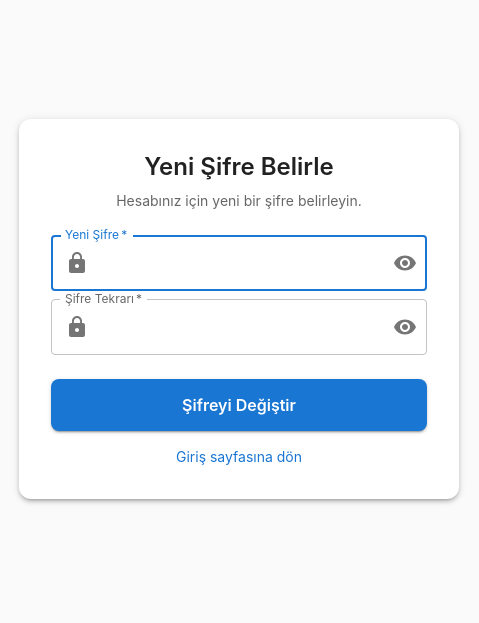
it: Password Recovery Flow (Turkish) › Reset Password Page › should validate password matching
This screenshot has width=479, height=623.
Type "Password123!" into the password field named "newPassword". click: (237, 263)
box: [97, 235, 377, 291]
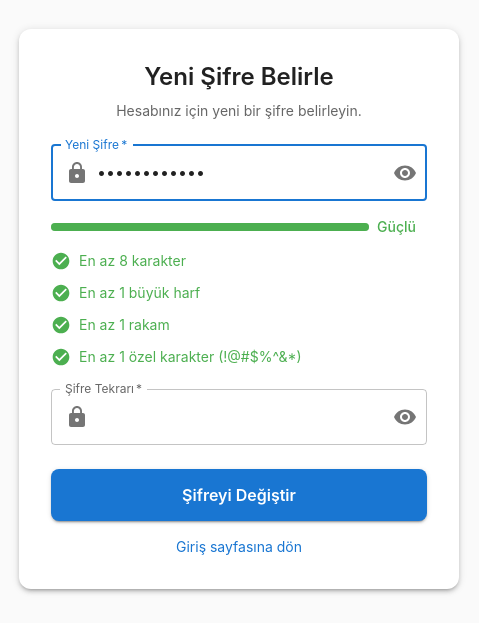
Type "DifferentPassword123!" into the password field named "confirmPassword". click: (237, 417)
box: [97, 389, 377, 445]
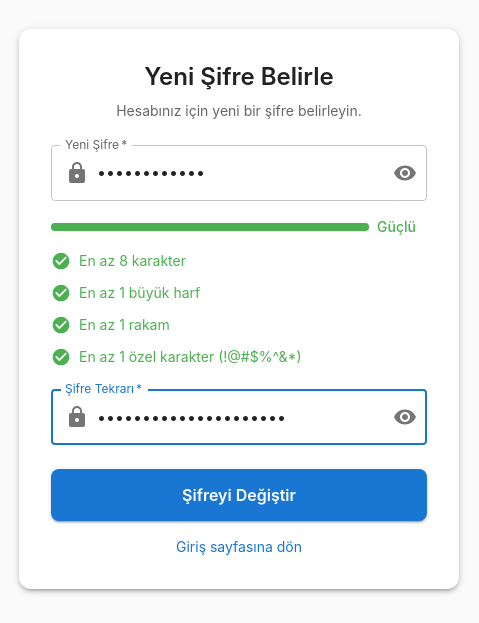
Click the submit button. click: (239, 495)
box: [51, 469, 427, 521]
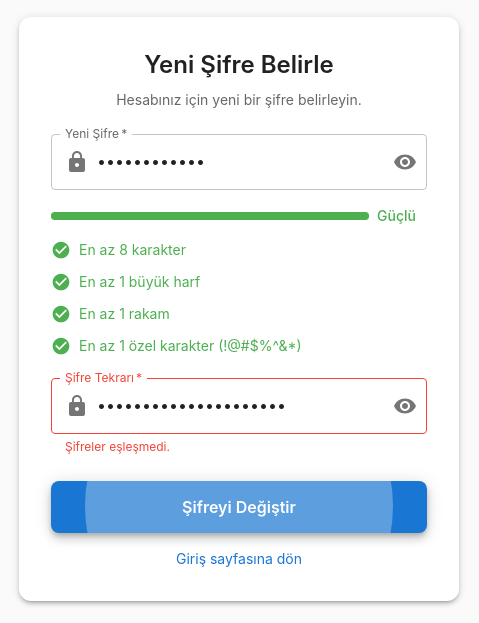
Expected: the text "Şifreler eşleşmedi" is shown, [65, 439, 170, 454]
